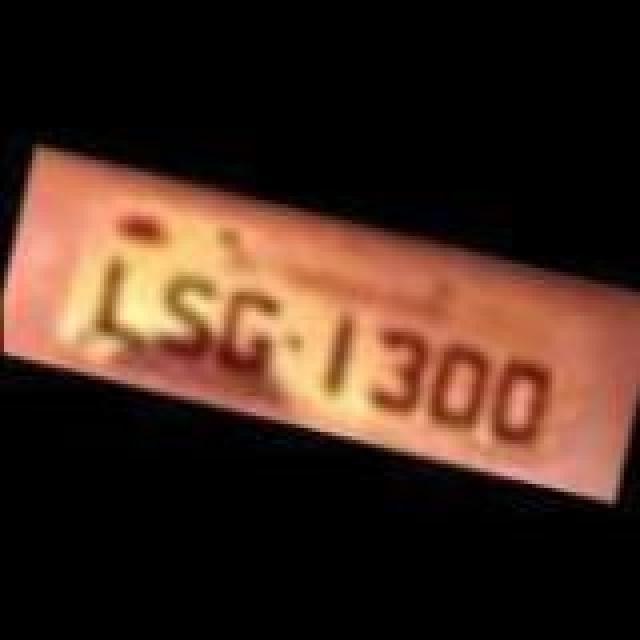1: (314, 306, 362, 398)
3: (360, 318, 436, 422)
G: (210, 276, 290, 380)
L: (86, 254, 158, 350)
O: (420, 338, 500, 438), (480, 354, 552, 450)
S: (142, 266, 222, 366)
